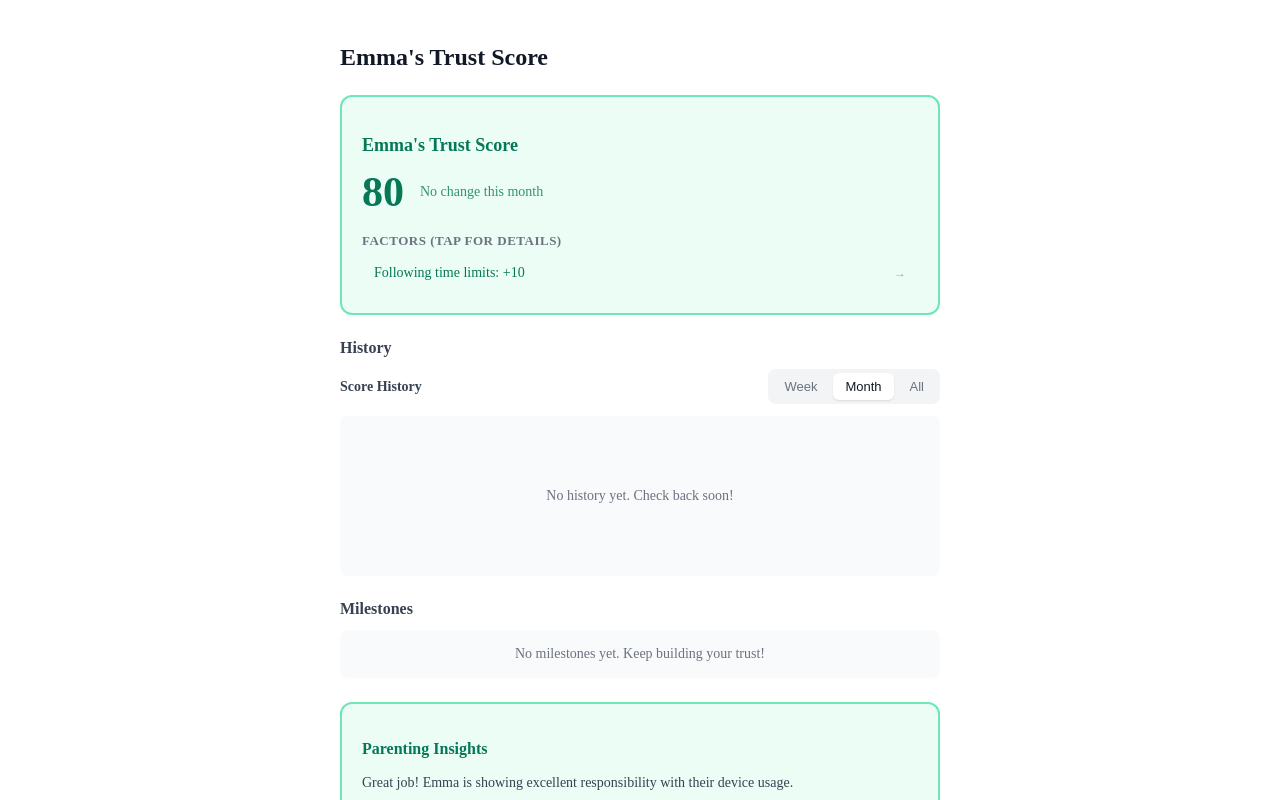
Test: AC4: Factor details on click › should close modal when backdrop clicked
This screenshot has width=1280, height=800.
Step 1. Click the button with test id "parent-factor-0" → click(449, 273), box [362,257,918,289]
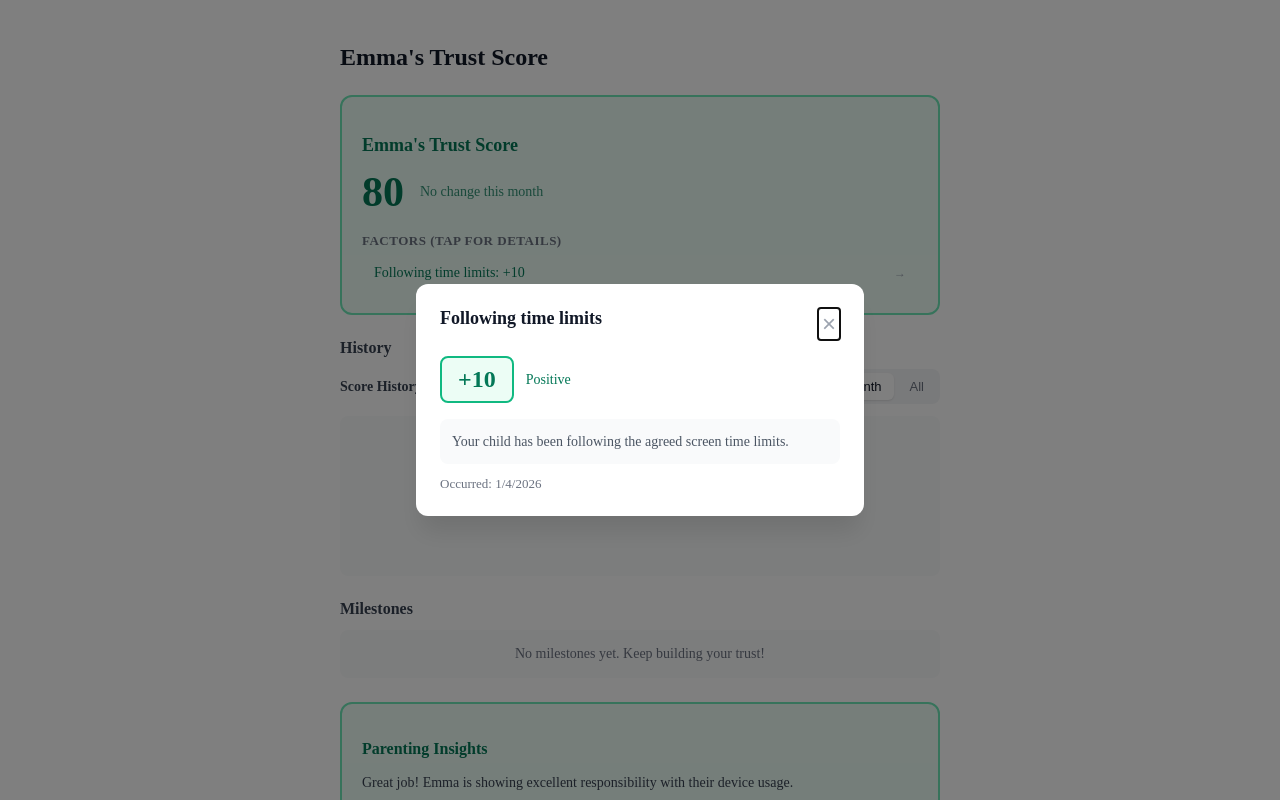
Check: the element with test id "factor-detail-modal" is shown
Step 2. Click the element with test id "modal-backdrop" → click(77, 400), box [0,0,1279,799]
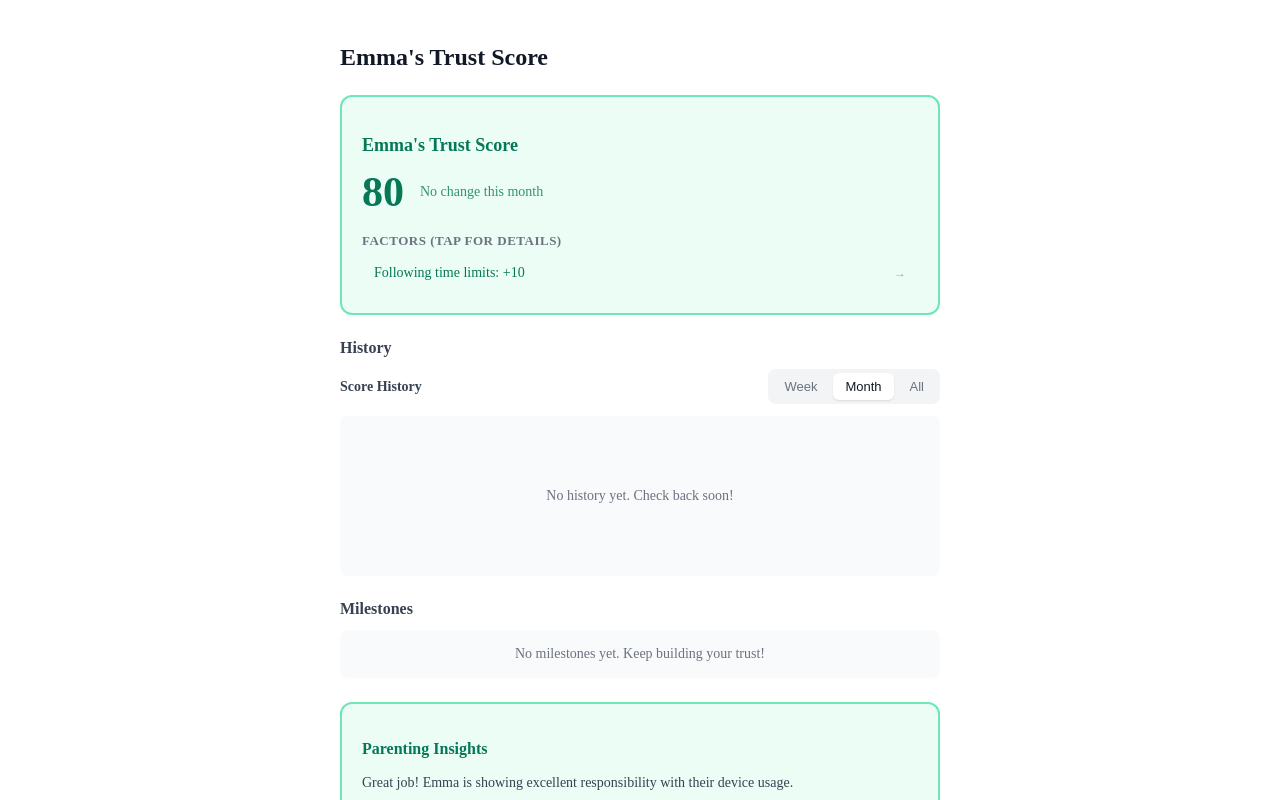
Check: the element with test id "factor-detail-modal" is gone
